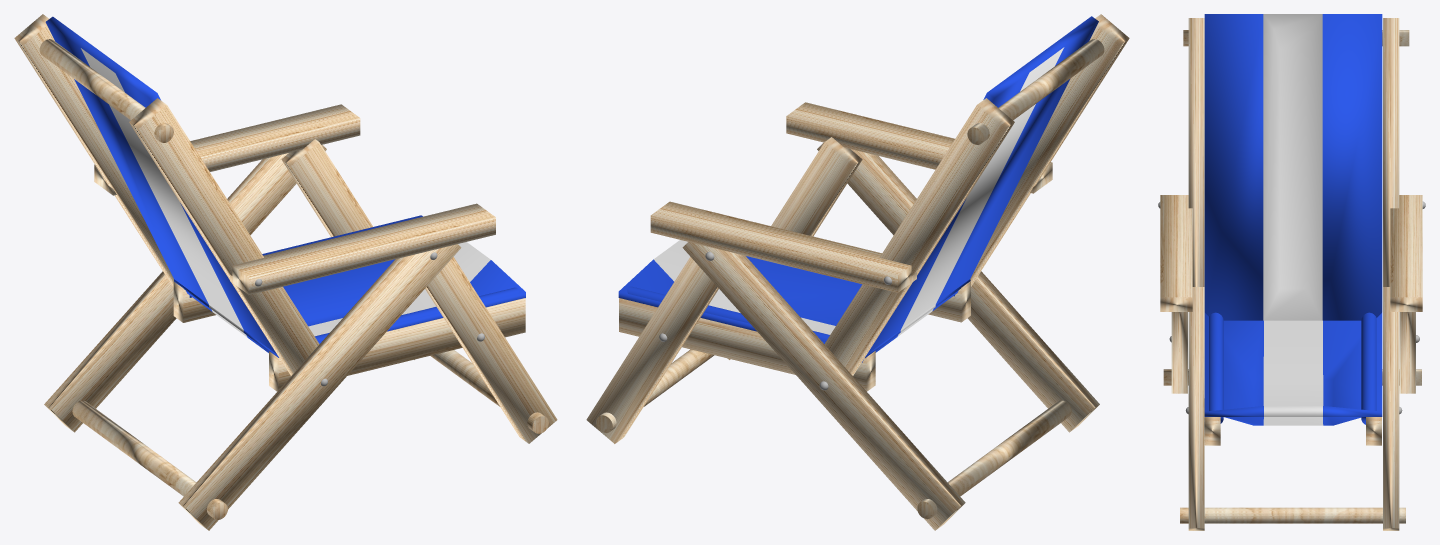
The model's file is BeachChair.glb.
3 views of the same model, side by side, from view 1: azimuth 30°, elevation 25°; view 2: azimuth 150°, elevation 25°; view 3: azimuth 270°, elevation 25° (orthographic). The views are drawn at different scales.
Parts seen in each view (by area): view 1: Cylinder.024; view 2: Cylinder.024; view 3: Cylinder.024.
Part boxes in pixels (x1,y1,x2,y2): Cylinder.024: [14, 14, 557, 530]; Cylinder.024: [586, 14, 1129, 530]; Cylinder.024: [1158, 14, 1425, 530].
Bounding box in the file's own units: 5.09 × 5.02 × 3.31.
4 materials, 1 textured.
